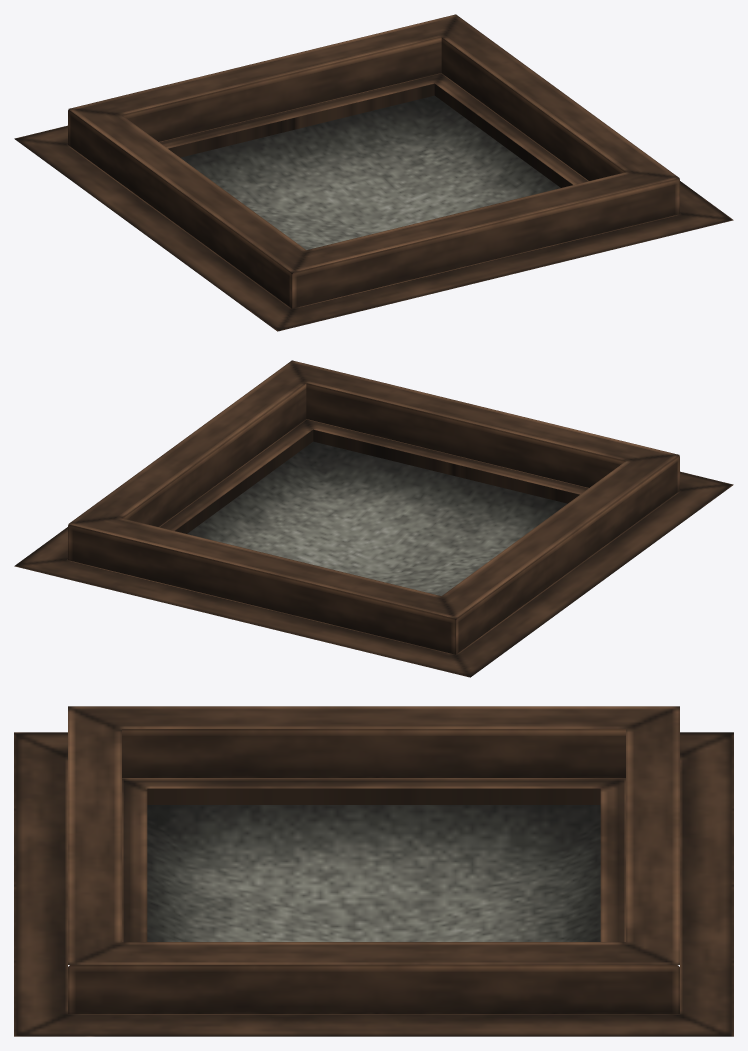
File: floor_pit.fbx
3 renders of one model, top to bottom at view 1: azimuth 30°, elevation 25°; view 2: azimuth 150°, elevation 25°; view 3: azimuth 270°, elevation 25°, orthographic. The views are drawn at different scales.
Visible parts, largest first — view 1: floor_pit; view 2: floor_pit; view 3: floor_pit.
Boxes of the visible parts, x1,y1,x2,y2 form: floor_pit: [14, 14, 733, 331]; floor_pit: [14, 360, 733, 677]; floor_pit: [14, 706, 733, 1036].
Bounding box in the file's own units: 200 × 35 × 200.
